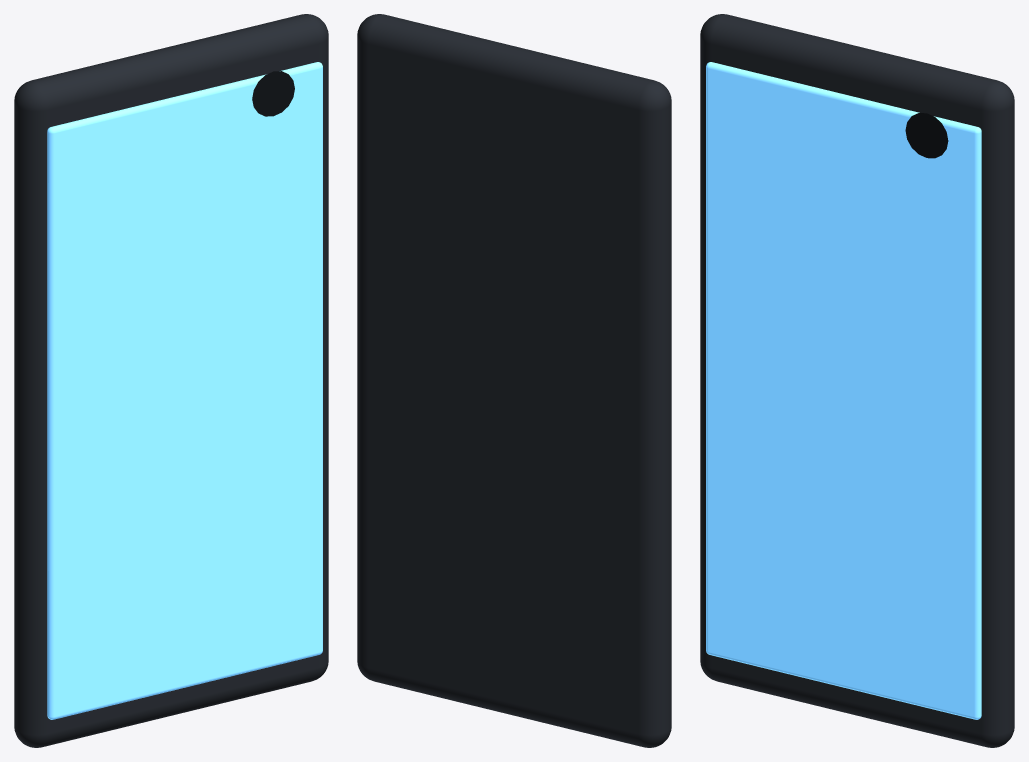
File: phone.glb
The picture shows the model from 3 angles, left to right: view 1: azimuth 30°, elevation 25°; view 2: azimuth 150°, elevation 25°; view 3: azimuth 330°, elevation 25°; orthographic projection.
Visible parts, largest first — view 1: prop-phone; view 2: prop-phone; view 3: prop-phone.
Part boxes in pixels (x1,y1,x2,y2): prop-phone: (14, 14, 328, 747); prop-phone: (357, 14, 671, 747); prop-phone: (700, 14, 1014, 747).
Size of the model in its own units: 0.072 by 0.148 by 0.0111.
